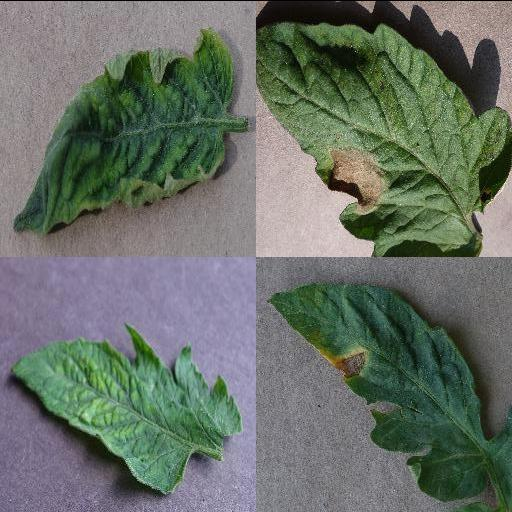Early Blight: (268, 280, 486, 500)
Late Blight: (256, 20, 512, 256)
Mosaic Virus: (10, 320, 244, 494)
Yellow Leaf Curl Virus: (12, 24, 236, 238)
